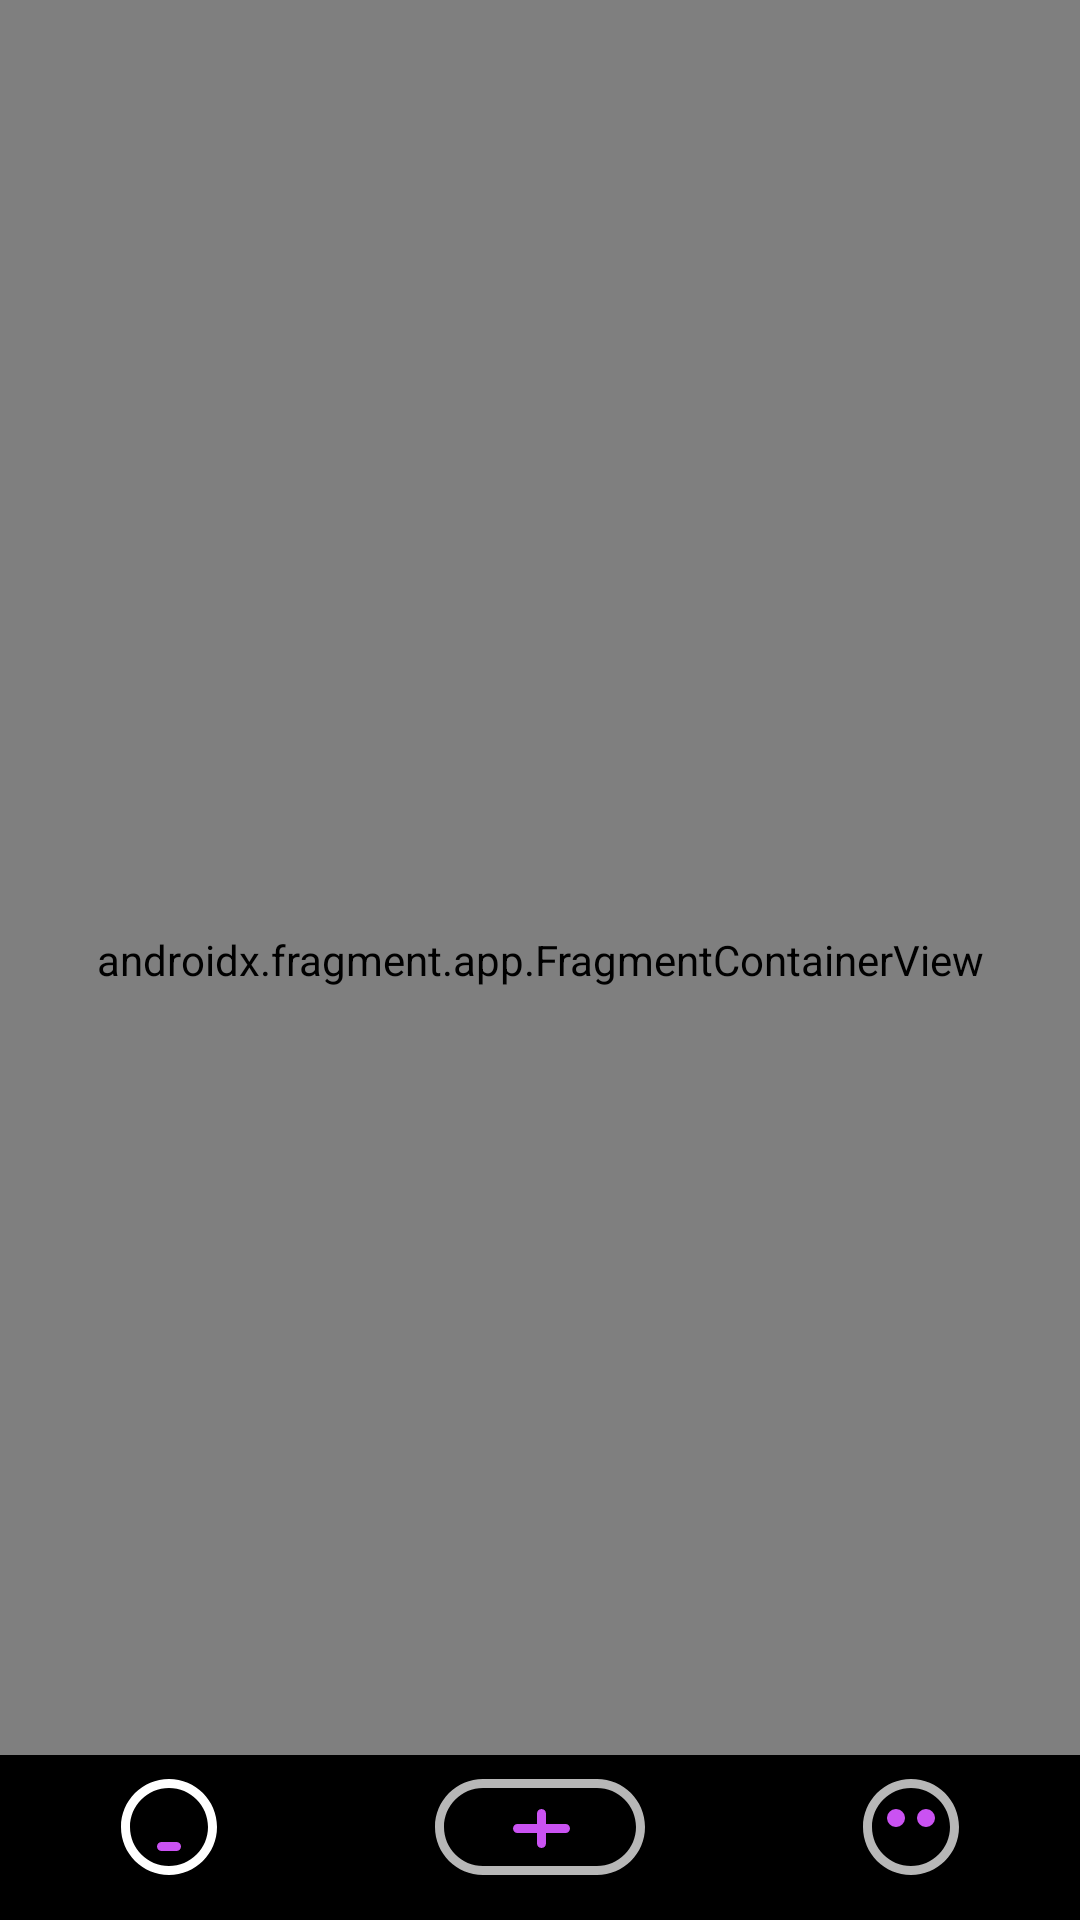

Screen size 1080*1920. Icon name, then its box in pixels as (left=x1, top=y1, right=x2, bottom=y2):
Mine: (left=863, top=1779, right=959, bottom=1875)
Post: (left=435, top=1779, right=645, bottom=1875)
